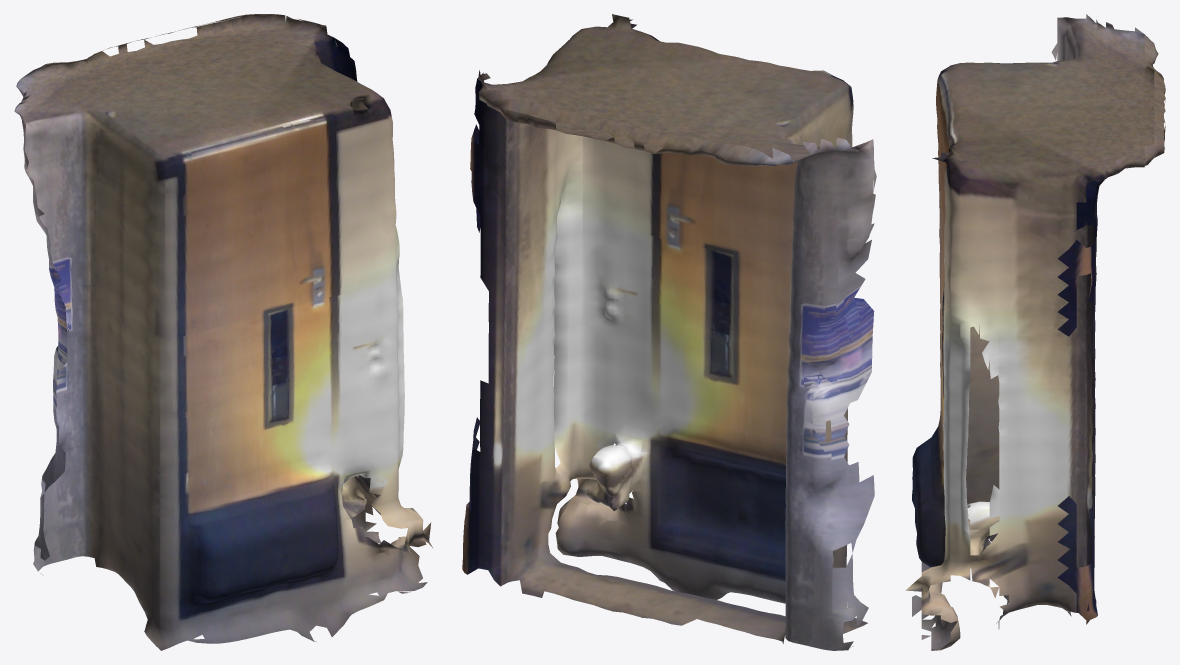
File: Hall5L.obj
3 renders of one model, left to right at view 1: azimuth 30°, elevation 25°; view 2: azimuth 150°, elevation 25°; view 3: azimuth 270°, elevation 25°, orthographic. The views are drawn at different scales.
Size of the model in its own units: 2.23 by 3.2 by 1.48.
Materials: 1 (1 with a texture image).
